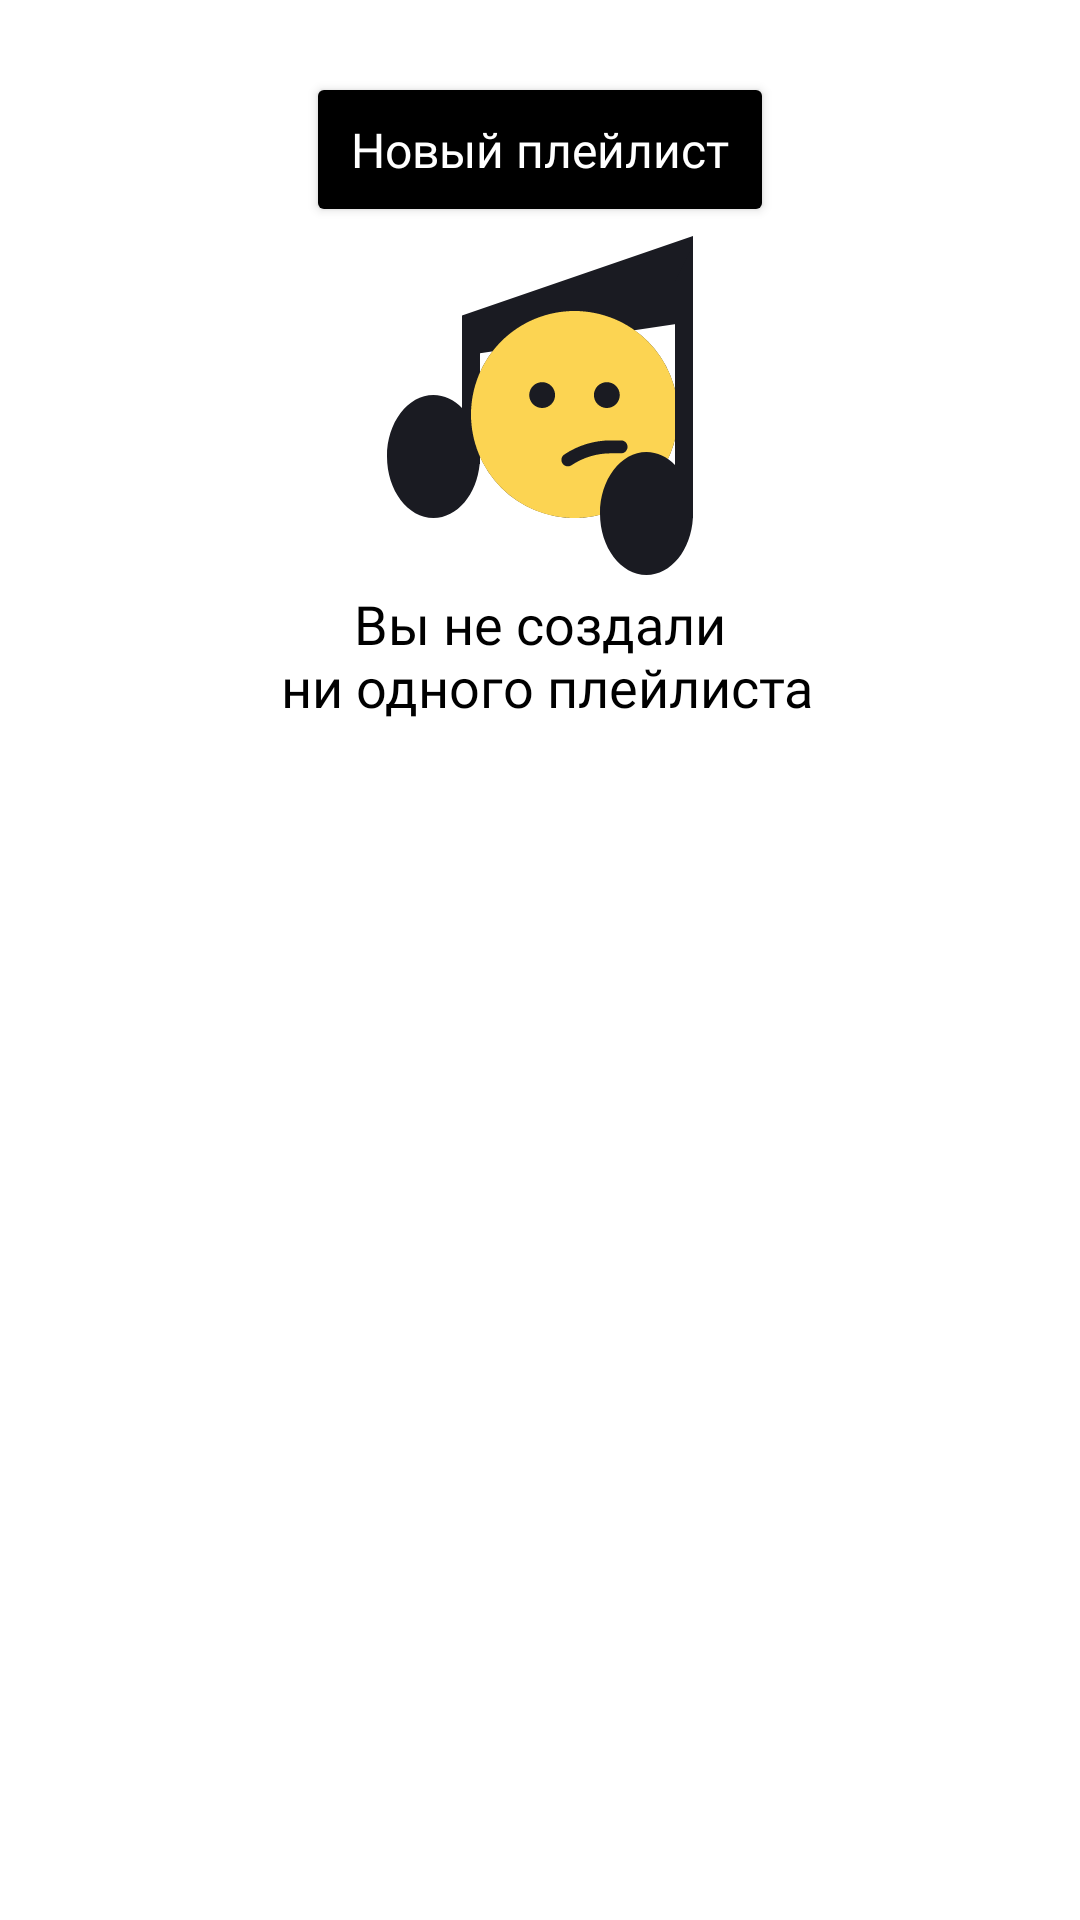

Icons on this 1080w x 1920h Android screen, each with the point to tap as (x,y):
not found: (540,405)
